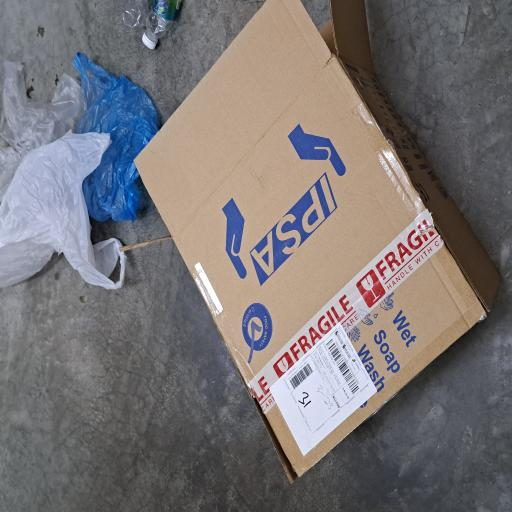cardboard: (22, 158, 383, 512)
plastic bag: (162, 2, 334, 154), (215, 85, 350, 211)
plastic bottle: (356, 192, 384, 244)
pop tab: (346, 181, 357, 209)
